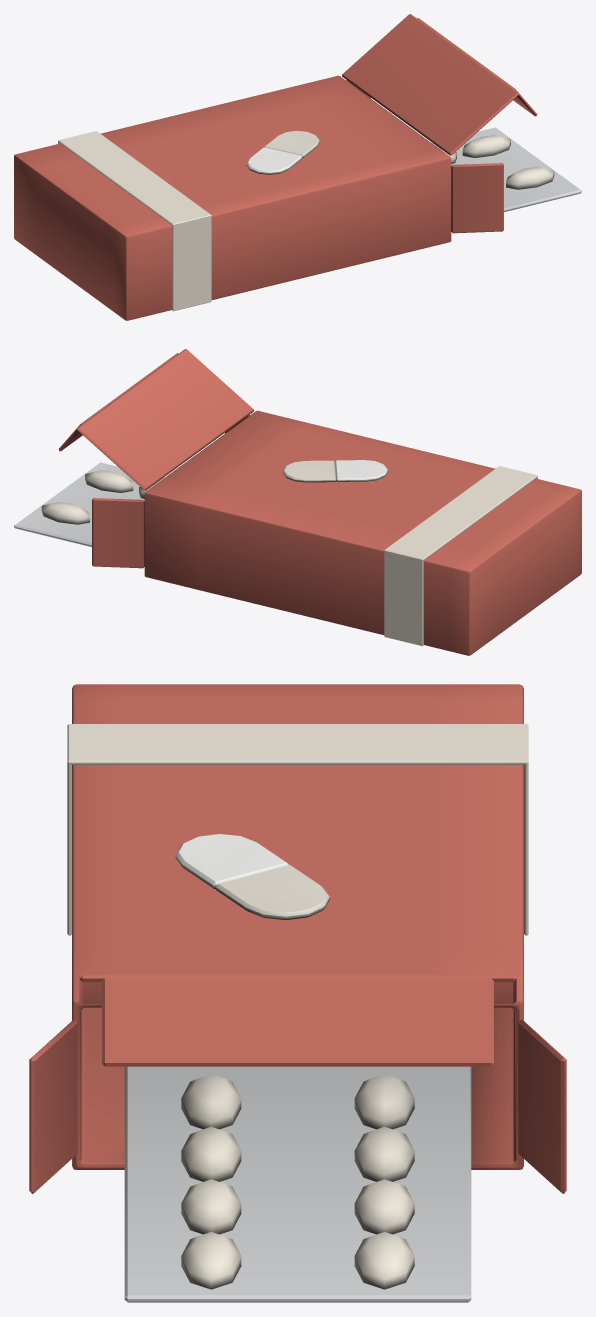
Rendered from med_pain.glb.
The picture shows the model from 3 angles, top to bottom: view 1: azimuth 30°, elevation 25°; view 2: azimuth 150°, elevation 25°; view 3: azimuth 270°, elevation 25°; orthographic projection. The views are drawn at different scales.
Parts seen in each view (by area): view 1: PART; view 2: PART; view 3: PART.
Part boxes in pixels (<box>): PART: <box>14,14,581,320</box>; PART: <box>14,349,581,655</box>; PART: <box>29,684,566,1302</box>.
Bounding box in the file's own units: 0.144 × 0.0384 × 0.0713.
